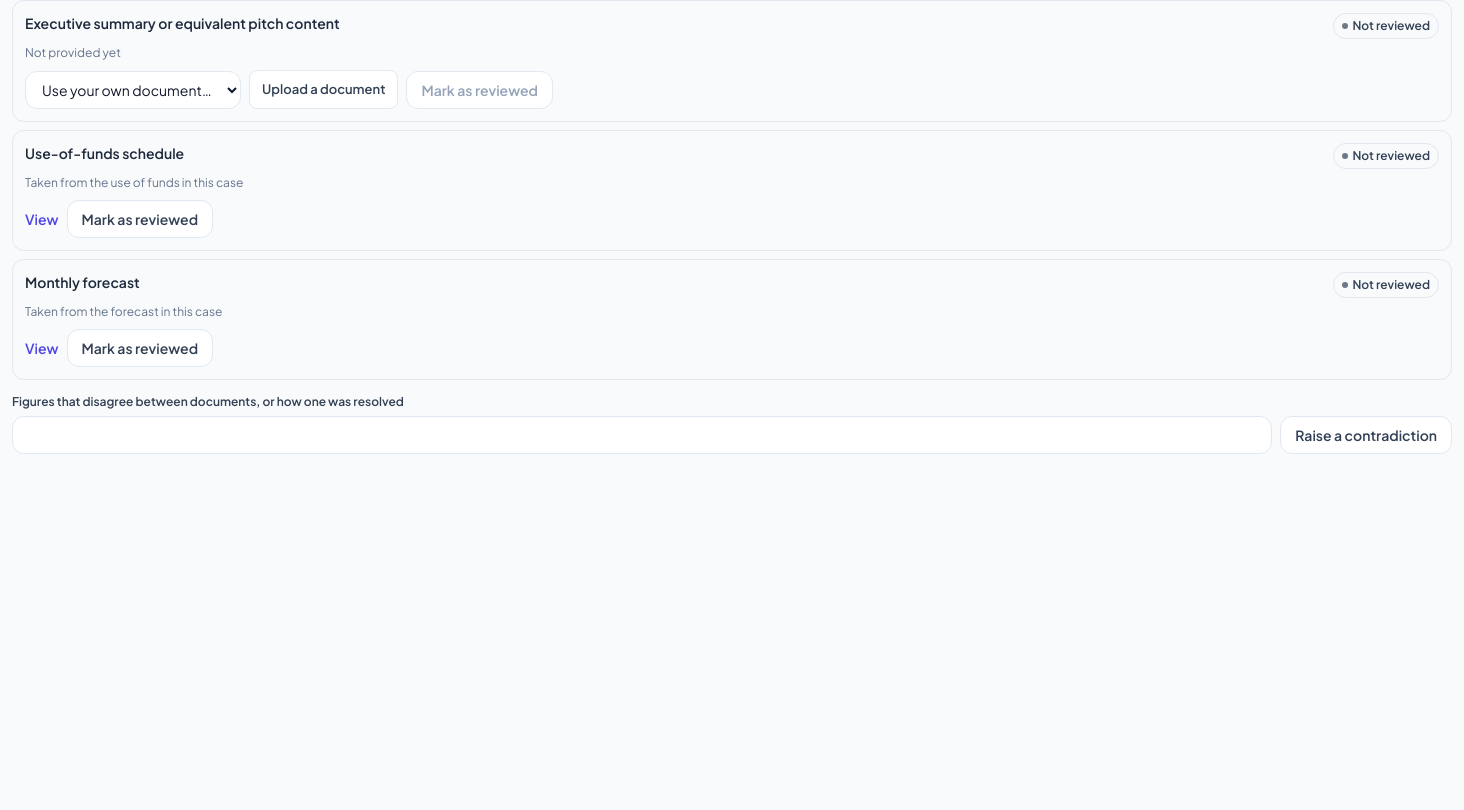
Scenario: shows what is being reviewed, and offers no review of a document not provided
Expected: the button "Mark as reviewed" next to "Upload a document" is disabled, [406, 71, 553, 109]
Step 1. Click the button "View" below "Use-of-funds schedule" → (42, 219), box [25, 209, 58, 229]
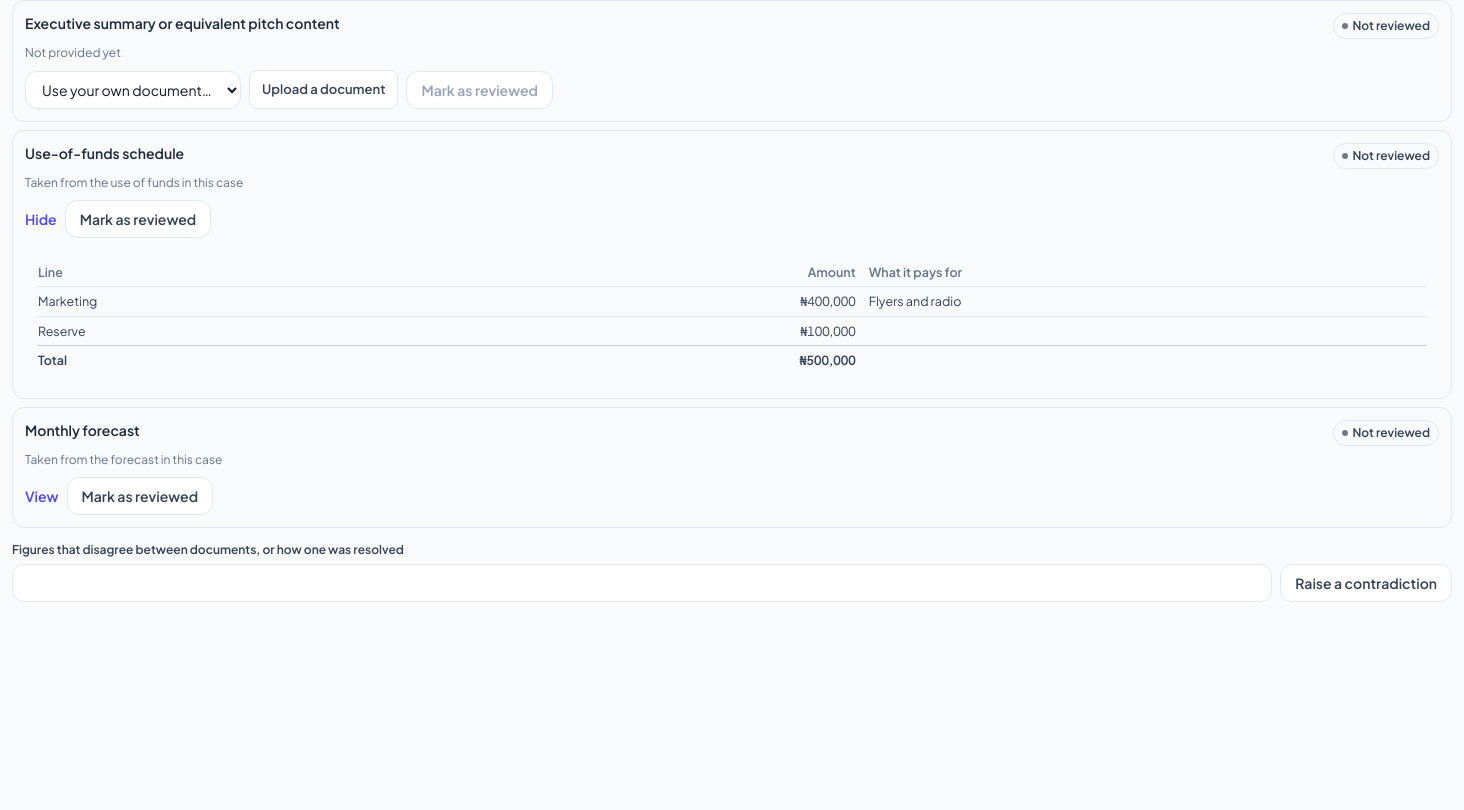
Result: the element that starts with "Line" shows "Marketing" at [38, 293, 97, 309]
Result: the element that starts with "Line" shows "Flyers and radio" at [869, 293, 961, 309]
Step 2. Click the button "View" → (42, 496), box [25, 486, 58, 506]
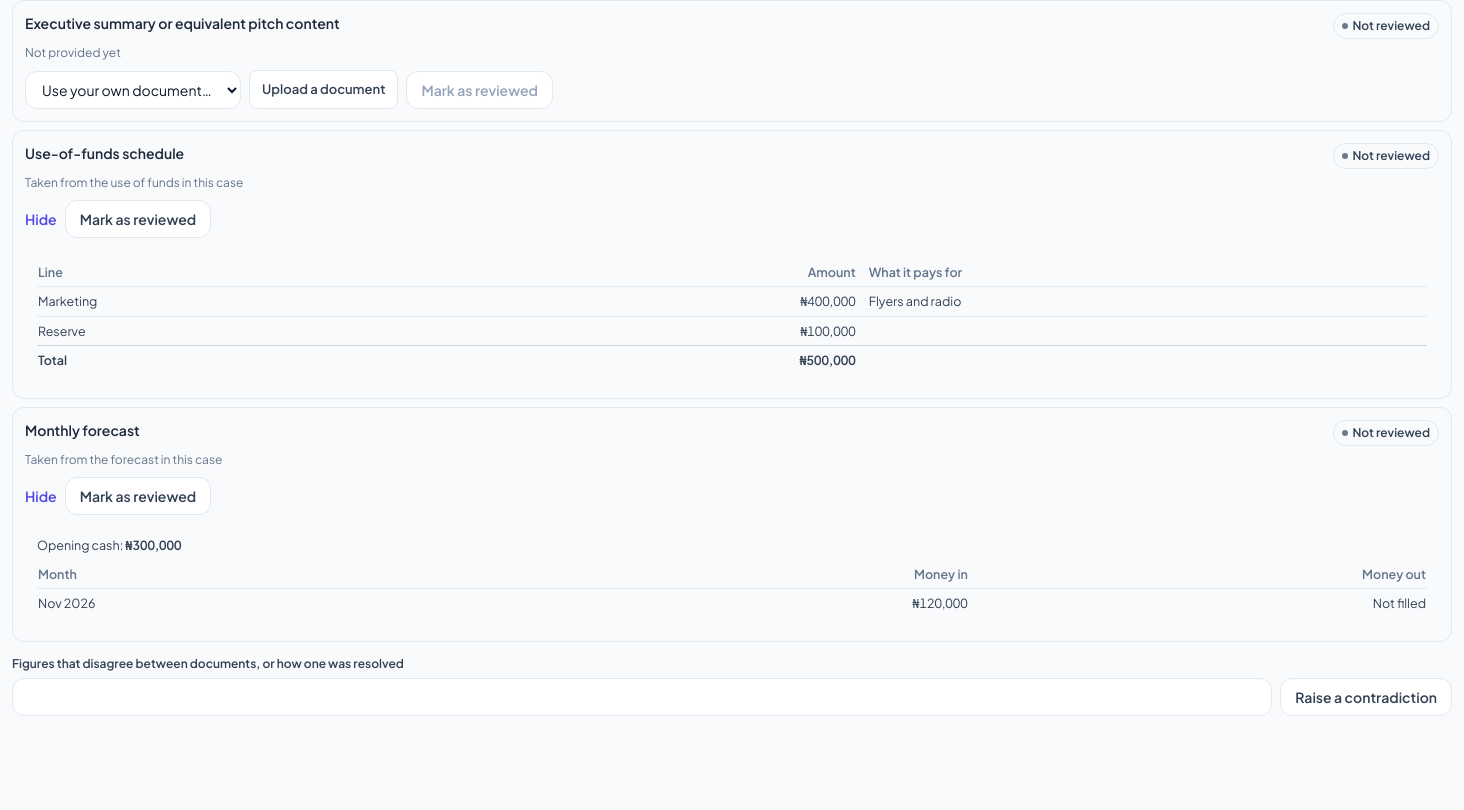
Expected: the button "Mark as reviewed" below "Use-of-funds schedule" is enabled, [65, 200, 211, 238]
Result: the element that starts with "Opening cash:" is shown at [37, 537, 125, 553]
Result: the element that starts with "Opening cash:" shows "Not filled" at [1373, 595, 1426, 611]
